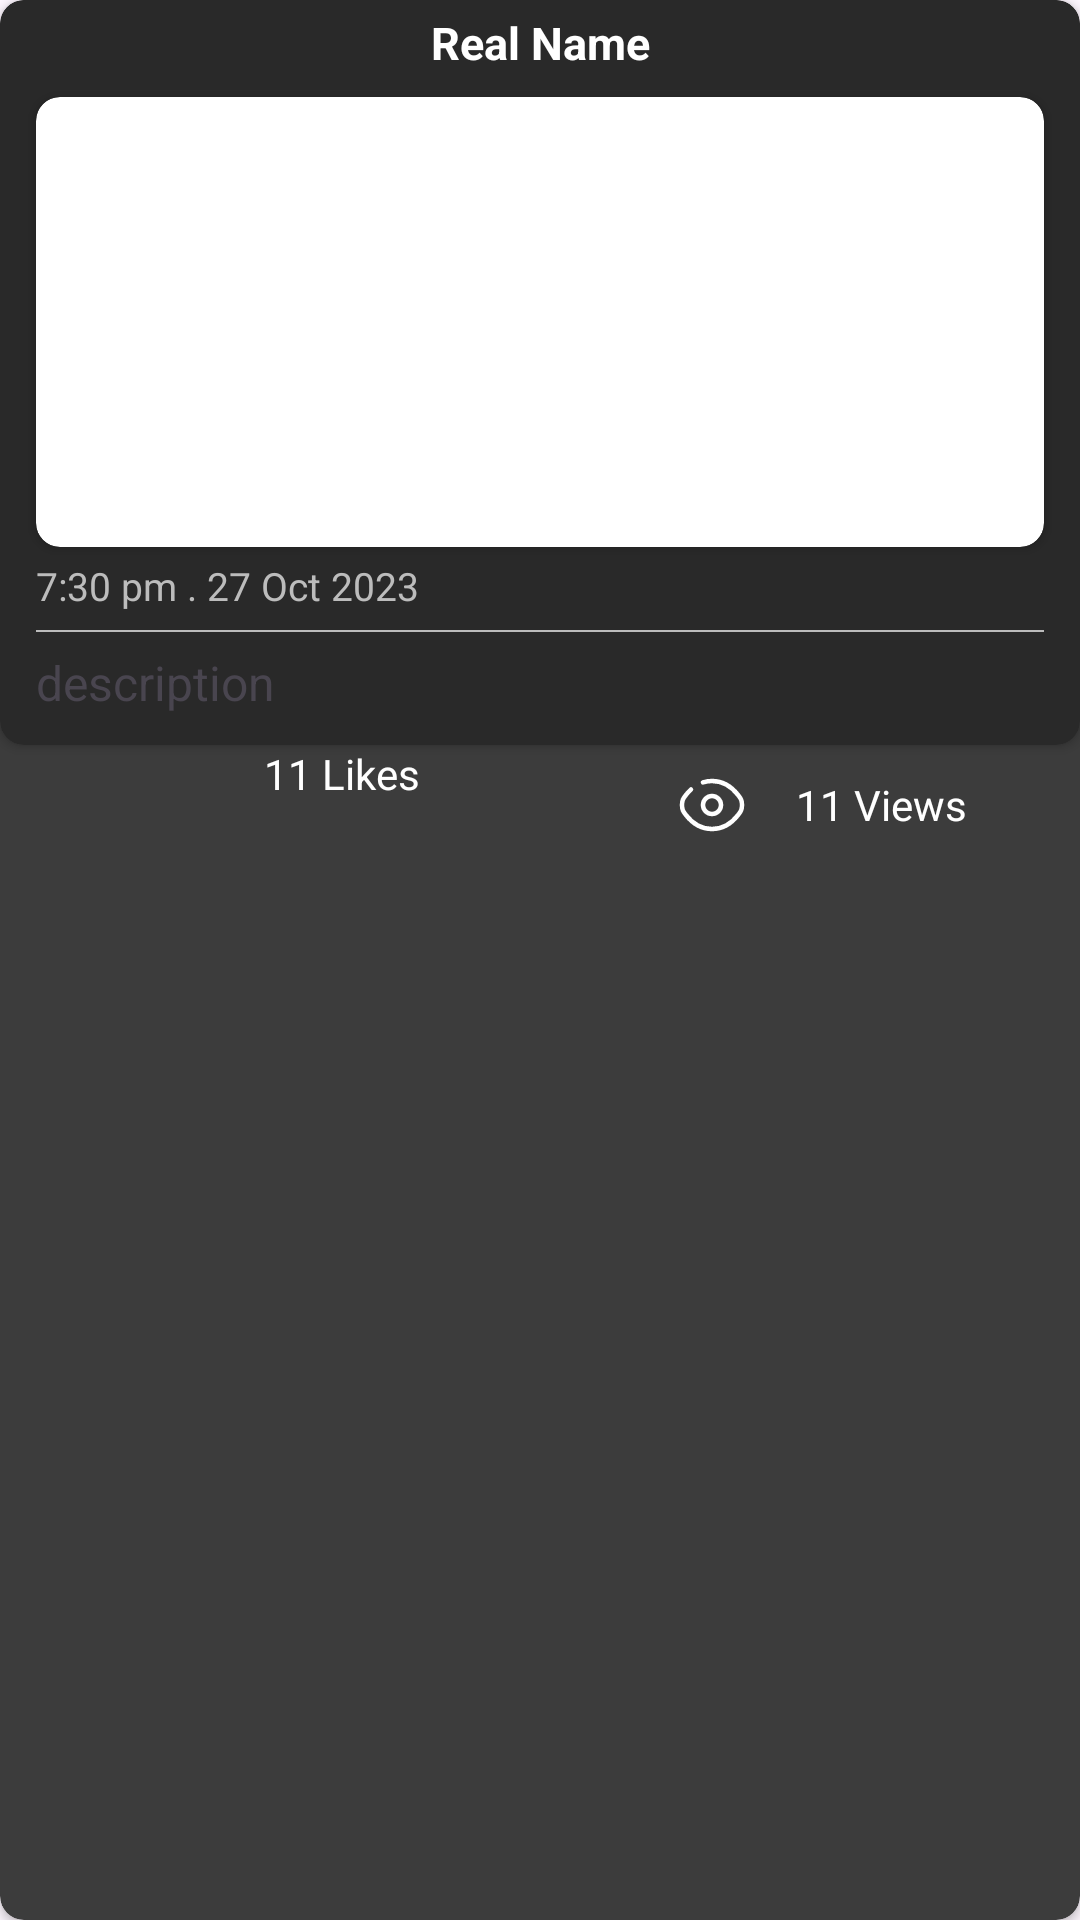

Point at icon controls on the screen. Image size 1080×1920, points as (x=x, y=y).
eye: (x=712, y=805)
